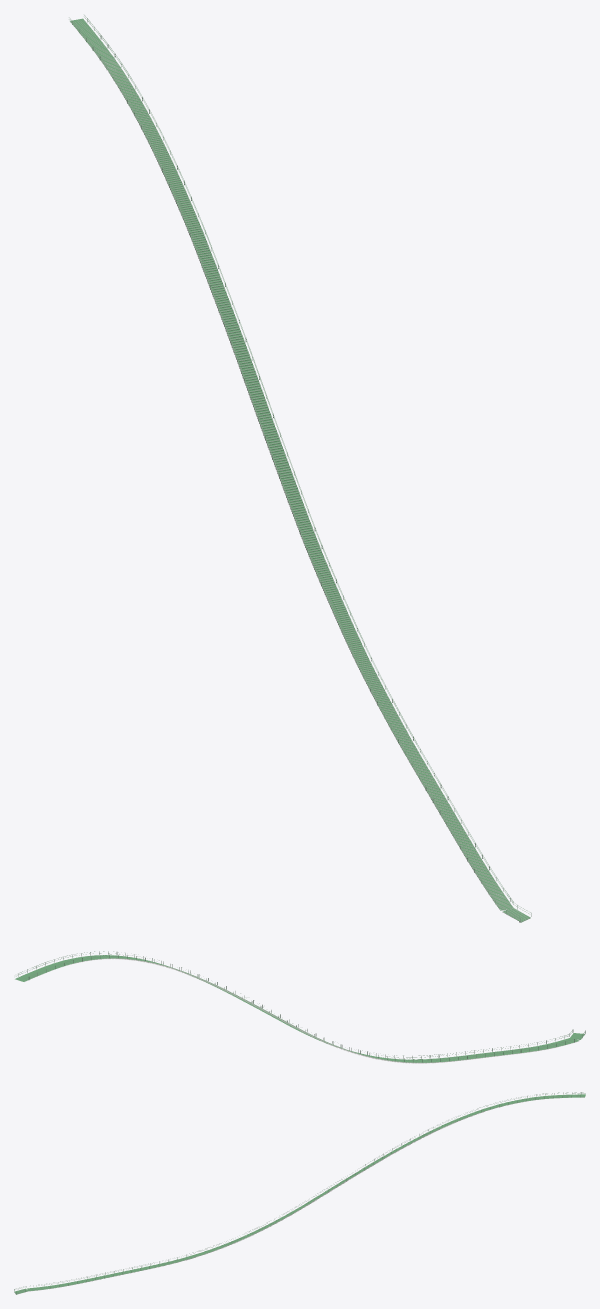
The model's file is hooiberg_steps.glb.
3 renders of one model, top to bottom at view 1: azimuth 30°, elevation 25°; view 2: azimuth 150°, elevation 25°; view 3: azimuth 270°, elevation 25°, orthographic. The views are drawn at different scales.
Visible parts, largest first — view 1: hooiberg_steps_lod0; view 2: hooiberg_steps_lod0; view 3: hooiberg_steps_lod0.
Part boxes in pixels (box(x1,y1,x2,y2)): hooiberg_steps_lod0: box(69, 15, 531, 922); hooiberg_steps_lod0: box(15, 951, 585, 1063); hooiberg_steps_lod0: box(14, 1092, 585, 1294).
Size of what is drawn, in the model's own units: 32.38 by 100 by 227.
